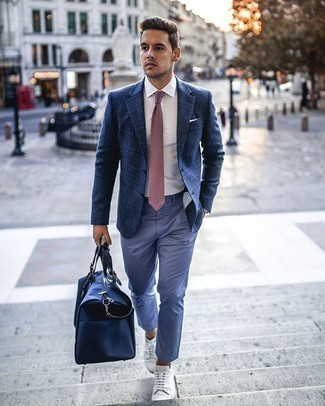tie: (140, 89, 177, 214)
